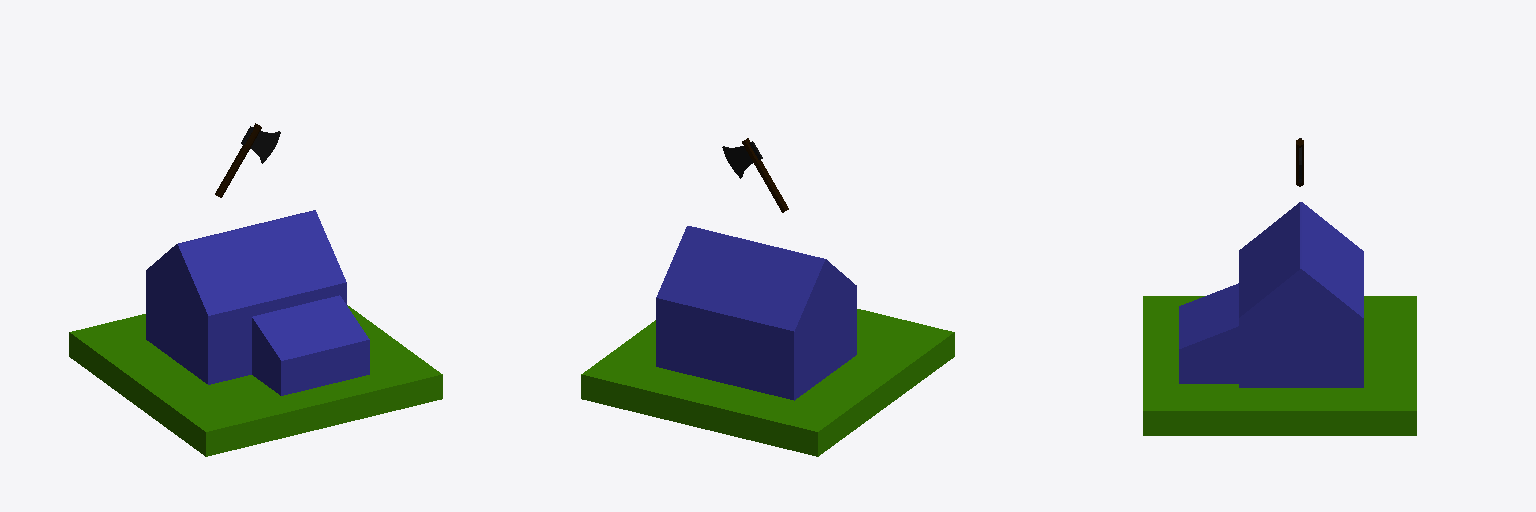
File: Woodworker0.obj
The picture shows the model from 3 angles: view 1: azimuth 30°, elevation 25°; view 2: azimuth 150°, elevation 25°; view 3: azimuth 270°, elevation 25°; orthographic projection.
Parts seen in each view (by area): view 1: Box695, Tilebase107, Box696, Cylinder039; view 2: Box695, Tilebase107, Box696, Cylinder039; view 3: Box695, Tilebase107.
Boxes of the visible parts, x1=… form: Box695: x1=146, y1=210, x2=369, y2=395; Tilebase107: x1=69, y1=305, x2=442, y2=456; Box696: x1=241, y1=126, x2=280, y2=163; Cylinder039: x1=215, y1=123, x2=261, y2=197; Box695: x1=656, y1=226, x2=856, y2=400; Tilebase107: x1=581, y1=309, x2=954, y2=456; Box696: x1=722, y1=141, x2=762, y2=178; Cylinder039: x1=742, y1=138, x2=788, y2=212; Box695: x1=1179, y1=202, x2=1363, y2=387; Tilebase107: x1=1143, y1=296, x2=1416, y2=435.
Size of the model in its own units: 10 by 9.86 by 10.